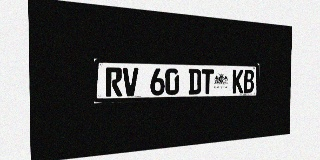0: (165, 68, 179, 95)
6: (150, 68, 165, 95)
B: (243, 70, 254, 93)
D: (188, 69, 201, 95)
K: (232, 70, 243, 93)
R: (106, 67, 122, 97)
T: (201, 69, 214, 94)
V: (123, 68, 138, 96)
